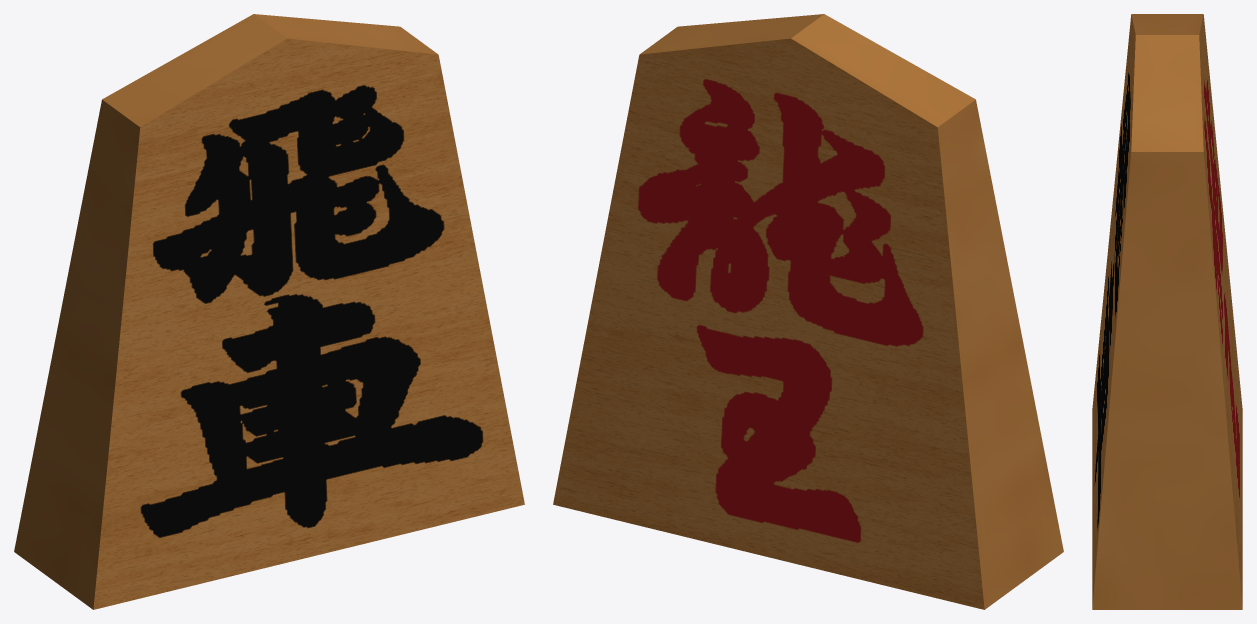
File: hisya.glb
3 renders of one model, left to right at view 1: azimuth 30°, elevation 25°; view 2: azimuth 150°, elevation 25°; view 3: azimuth 270°, elevation 25°, orthographic. The views are drawn at different scales.
Parts seen in each view (by area): view 1: 飛車; view 2: 飛車; view 3: 飛車.
Boxes of the visible parts, x1,y1,x2,y2 form: 飛車: [14, 14, 524, 609]; 飛車: [553, 14, 1063, 609]; 飛車: [1092, 14, 1242, 609].
Size of the model in its own units: 2.7 by 3 by 0.86.
1 material, 1 textured.
